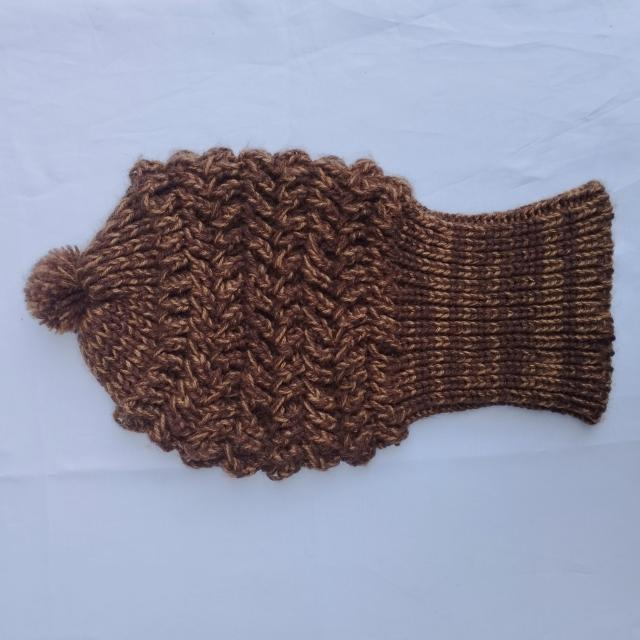Gorro: (23, 144, 617, 482)
